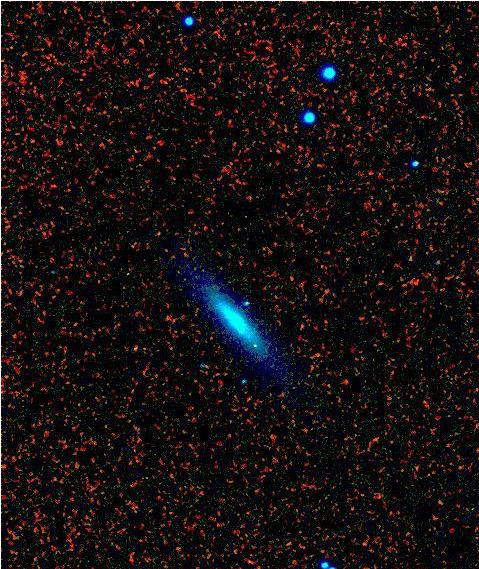star: (239, 331, 269, 361)
